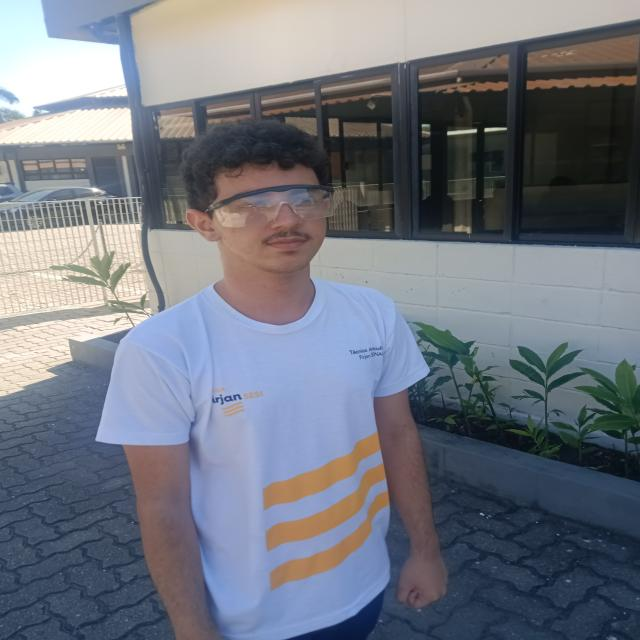oculos-epi: (205, 184, 333, 228)
